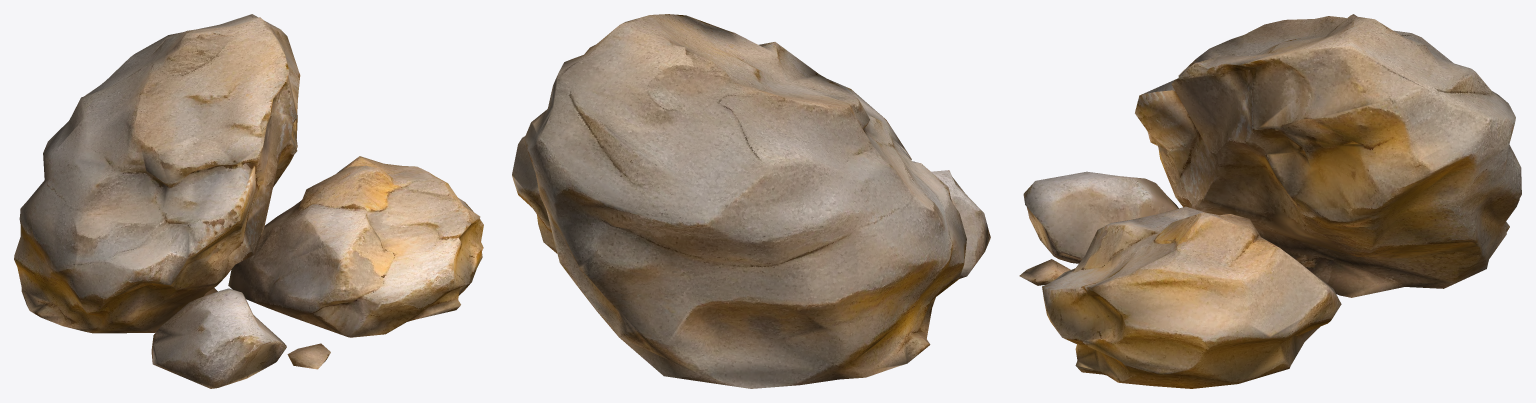
The model's file is rocks_set.glb.
The picture shows the model from 3 angles, left to right: view 1: azimuth 30°, elevation 25°; view 2: azimuth 150°, elevation 25°; view 3: azimuth 270°, elevation 25°; orthographic projection. The views are drawn at different scales.
Visible parts, largest first — view 1: geometry_0; view 2: geometry_0; view 3: geometry_0.
Part boxes in pixels (x1=…): geometry_0: x1=14, y1=14, x2=483, y2=388; geometry_0: x1=512, y1=14, x2=990, y2=388; geometry_0: x1=1019, y1=14, x2=1521, y2=388.
Bounding box in the file's own units: 0.9015 × 0.5214 × 0.8536.
1 material, 1 textured.
